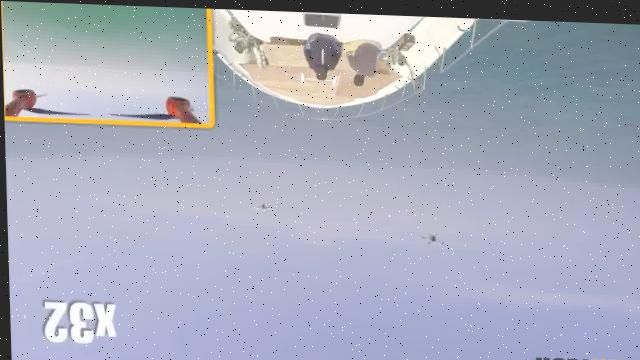drone: (244, 195, 277, 220), (413, 224, 445, 245)
